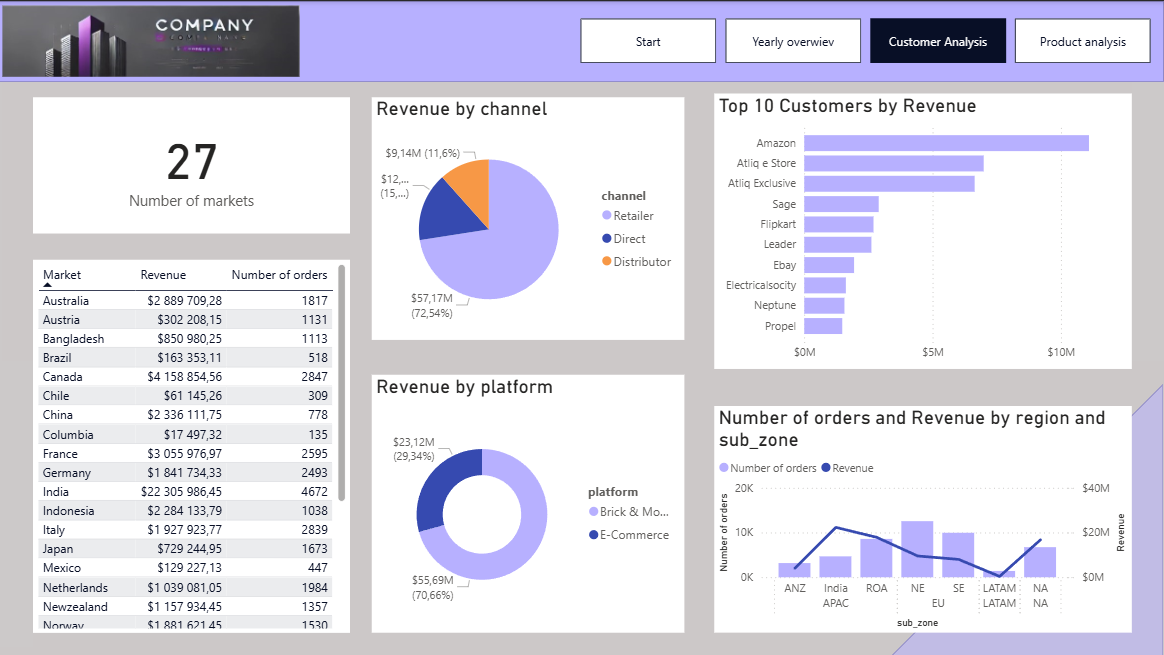

This screenshot's page, from the dashboard's own definition file:
{"tool":"powerbi","page":{"name":"Customer Analysis","canvas":[1280,720],"ordinal":2},"visuals":[{"type":"donutChart","fields":{"Category":["dim_customer.platform"],"Y":["Sum(fact_sales_monthly.Revenue)"]},"box":[410.5,410.5,343.3,283],"z":1000},{"type":"shape","box":[980.4,420.2,299.6,299.6],"z":1500},{"type":"lineClusteredColumnComboChart","fields":{"Category":["dim_customer.region Hierarchy.region","dim_customer.region Hierarchy.sub_zone","dim_customer.region Hierarchy.market"],"Y":["_Measures.Count_Of_Orders"],"Y2":["Sum(fact_sales_monthly.Revenue)"]},"box":[786.9,444.5,458.1,249],"z":2000},{"type":"card","title":"dffsd","fields":{"Values":["Count(dim_customer.region Hierarchy.market)"]},"box":[37.9,105,348.2,149.8],"z":3000},{"type":"pieChart","fields":{"Category":["dim_customer.channel"],"Y":["Sum(fact_sales_monthly.Revenue)"]},"box":[410.5,105,343.3,266.5],"z":4000},{"type":"barChart","title":"Top 10 Customers by Revenue","fields":{"Category":["dim_customer.customer"],"Y":["Sum(fact_sales_monthly.Revenue)"]},"box":[786.9,102.1,458.1,302.5],"z":5000},{"type":"shape","box":[0,0,1280,88.9],"z":6000},{"type":"pageNavigator","box":[640,19.5,629.3,49.6],"z":7000},{"type":"tableEx","fields":{"Values":["dim_customer.market","Sum(fact_sales_monthly.Revenue)","_Measures.Count_Of_Orders"]},"box":[37.9,284,348.2,409.5],"z":8000},{"type":"image","box":[0,0,336.5,88.5],"z":9000}]}

Visuals, with their boxes in screenshot pixels (x1, y1, x2, y2), scaled from the page's 1280x720 canvas onto the 1164x655 screenshot:
donutChart - dim_customer.platform x Sum(fact_sales_monthly.Revenue): detection(373, 373, 685, 631)
shape: detection(892, 382, 1163, 654)
lineClusteredColumnComboChart - dim_customer.region Hierarchy.region x dim_customer.region Hierarchy.sub_zone: detection(716, 404, 1132, 631)
"dffsd" card: detection(34, 96, 351, 232)
pieChart - dim_customer.channel x Sum(fact_sales_monthly.Revenue): detection(373, 96, 685, 338)
"Top 10 Customers by Revenue" barChart: detection(716, 93, 1132, 368)
shape: detection(0, 0, 1163, 81)
pageNavigator: detection(582, 18, 1154, 63)
tableEx - dim_customer.market x Sum(fact_sales_monthly.Revenue): detection(34, 258, 351, 631)
image: detection(0, 0, 306, 81)
